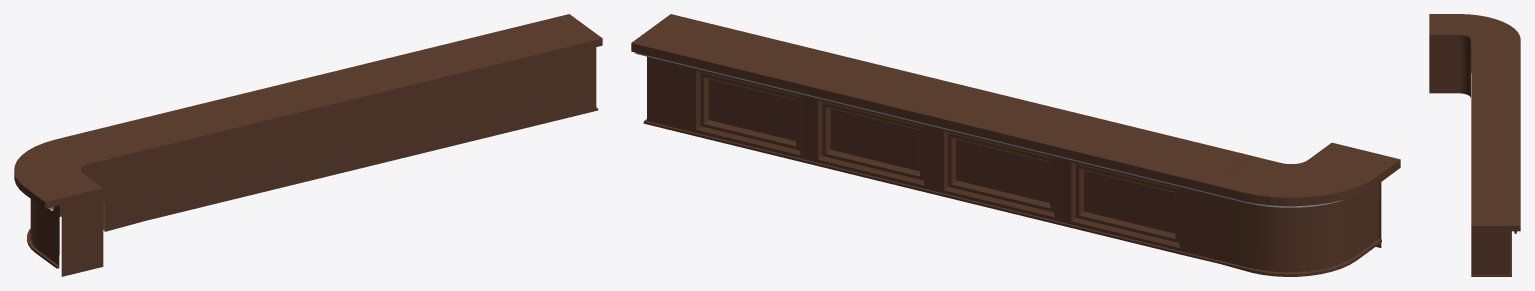
Rendered from SM_Table2.fbx.
The picture shows the model from 3 angles, left to right: view 1: azimuth 30°, elevation 25°; view 2: azimuth 150°, elevation 25°; view 3: azimuth 270°, elevation 25°; orthographic projection. The views are drawn at different scales.
Visible parts, largest first — view 1: Table; view 2: Table; view 3: Table.
Boxes of the visible parts, x1,y1,x2,y2 form: Table: [14, 14, 602, 276]; Table: [631, 14, 1400, 276]; Table: [1429, 14, 1520, 276].
Bounding box in the file's own units: 881 × 113 × 161.
